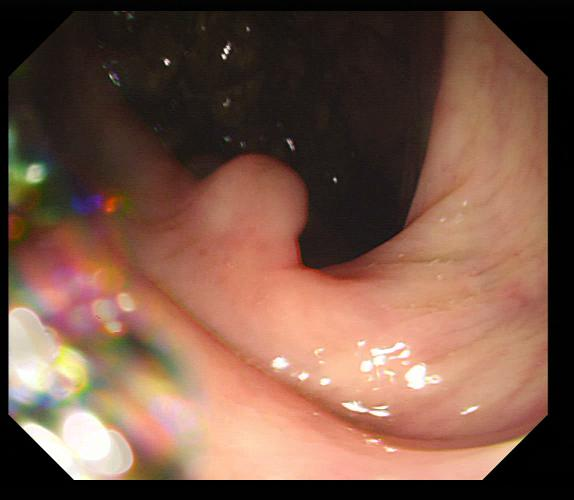polyp: (197, 154, 308, 269)
